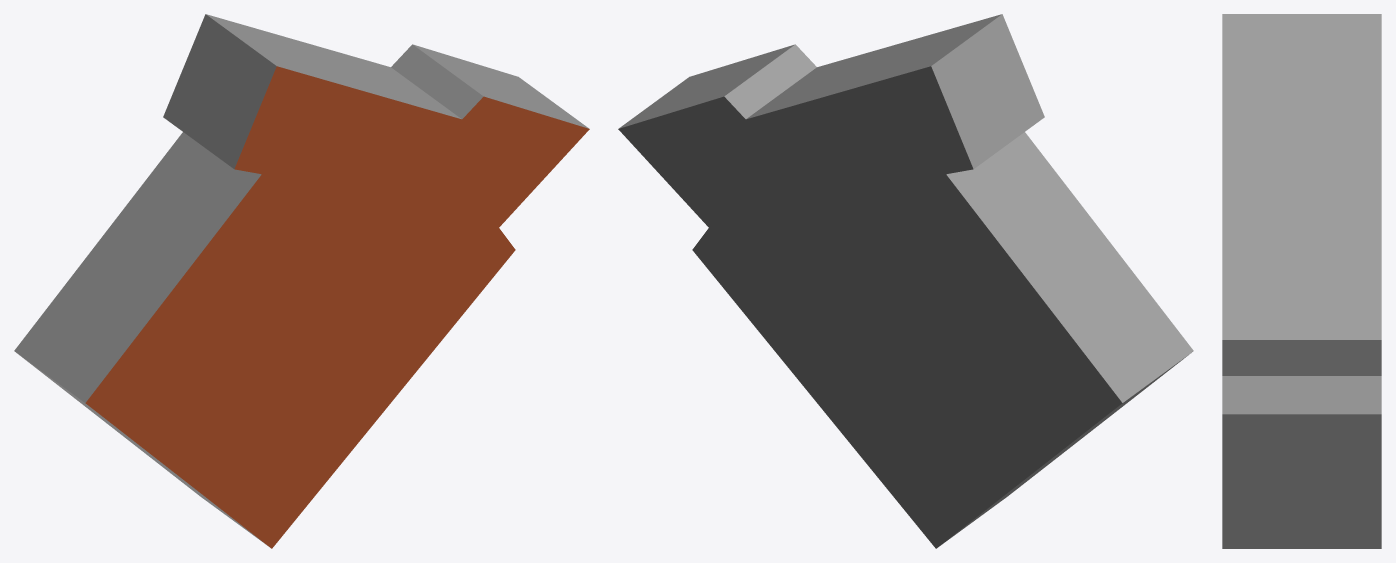
The model's file is construction_4907_assumed_A_Casa_h6m.obj.
3 renders of one model, left to right at view 1: azimuth 30°, elevation 25°; view 2: azimuth 150°, elevation 25°; view 3: azimuth 270°, elevation 25°, orthographic. The views are drawn at different scales.
Parts seen in each view (by area): view 1: construction_4907_assumed_A_Casa; view 2: construction_4907_assumed_A_Casa; view 3: construction_4907_assumed_A_Casa.
Part boxes in pixels (bbox=[...]): construction_4907_assumed_A_Casa: bbox=[14, 14, 589, 548]; construction_4907_assumed_A_Casa: bbox=[618, 14, 1193, 548]; construction_4907_assumed_A_Casa: bbox=[1222, 14, 1381, 548].
Size of the model in its own units: 24.51 by 22.36 by 6.
